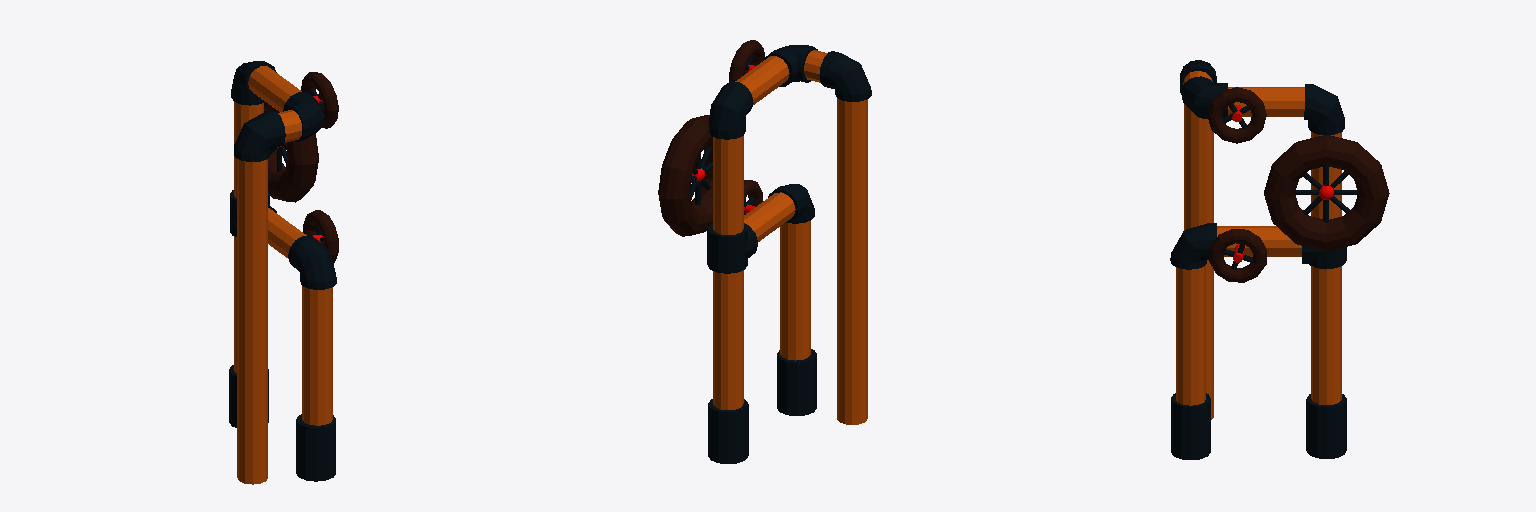
The picture shows the model from 3 angles: view 1: azimuth 30°, elevation 25°; view 2: azimuth 150°, elevation 25°; view 3: azimuth 270°, elevation 25°; orthographic projection.
Visible parts, largest first — view 1: group[number redacted], group[number redacted], group[number redacted], group[number redacted], group[number redacted], group[number redacted], group[number redacted], group[number redacted], group[number redacted], group[number redacted], group[number redacted], group[number redacted] (+1 smaller); view 2: group[number redacted], group[number redacted], group[number redacted], group[number redacted], group[number redacted], group[number redacted], group[number redacted], group[number redacted], group[number redacted], group[number redacted], group[number redacted], group[number redacted] (+2 smaller); view 3: group[number redacted], group[number redacted], group[number redacted], group[number redacted], group[number redacted], group[number redacted], group[number redacted], group[number redacted], group[number redacted], group[number redacted], group[number redacted], group[number redacted] (+2 smaller).
Boxes of the visible parts, x1=… form: group[number redacted]: x1=237, y1=159, x2=267, y2=484; group[number redacted]: x1=302, y1=286, x2=332, y2=425; group[number redacted]: x1=264, y1=102, x2=318, y2=202; group[number redacted]: x1=296, y1=414, x2=335, y2=481; group[number redacted]: x1=234, y1=111, x2=285, y2=161; group[number redacted]: x1=288, y1=236, x2=336, y2=289; group[number redacted]: x1=248, y1=66, x2=301, y2=111; group[number redacted]: x1=283, y1=92, x2=324, y2=141; group[number redacted]: x1=234, y1=102, x2=263, y2=372; group[number redacted]: x1=301, y1=72, x2=338, y2=128; group[number redacted]: x1=268, y1=208, x2=306, y2=258; group[number redacted]: x1=231, y1=61, x2=276, y2=105; group[number redacted]: x1=837, y1=98, x2=867, y2=424; group[number redacted]: x1=713, y1=136, x2=743, y2=409; group[number redacted]: x1=658, y1=115, x2=712, y2=236; group[number redacted]: x1=780, y1=221, x2=810, y2=360; group[number redacted]: x1=777, y1=349, x2=816, y2=415; group[number redacted]: x1=708, y1=399, x2=748, y2=463; group[number redacted]: x1=709, y1=81, x2=753, y2=139; group[number redacted]: x1=819, y1=51, x2=871, y2=101; group[number redacted]: x1=707, y1=223, x2=747, y2=273; group[number redacted]: x1=744, y1=192, x2=795, y2=241; group[number redacted]: x1=735, y1=56, x2=789, y2=104; group[number redacted]: x1=763, y1=45, x2=817, y2=86; group[number redacted]: x1=1264, y1=135, x2=1389, y2=251; group[number redacted]: x1=1311, y1=132, x2=1341, y2=404; group[number redacted]: x1=1184, y1=104, x2=1213, y2=419; group[number redacted]: x1=1176, y1=265, x2=1205, y2=405; group[number redacted]: x1=1306, y1=394, x2=1346, y2=458; group[number redacted]: x1=1171, y1=393, x2=1210, y2=459; group[number redacted]: x1=1207, y1=87, x2=1266, y2=143; group[number redacted]: x1=1209, y1=229, x2=1266, y2=282; group[number redacted]: x1=1304, y1=84, x2=1344, y2=134; group[number redacted]: x1=1170, y1=223, x2=1216, y2=269; group[number redacted]: x1=1228, y1=87, x2=1304, y2=116; group[number redacted]: x1=1217, y1=226, x2=1301, y2=256.
Size of the model in its own units: 1.74 by 5.14 by 2.71.